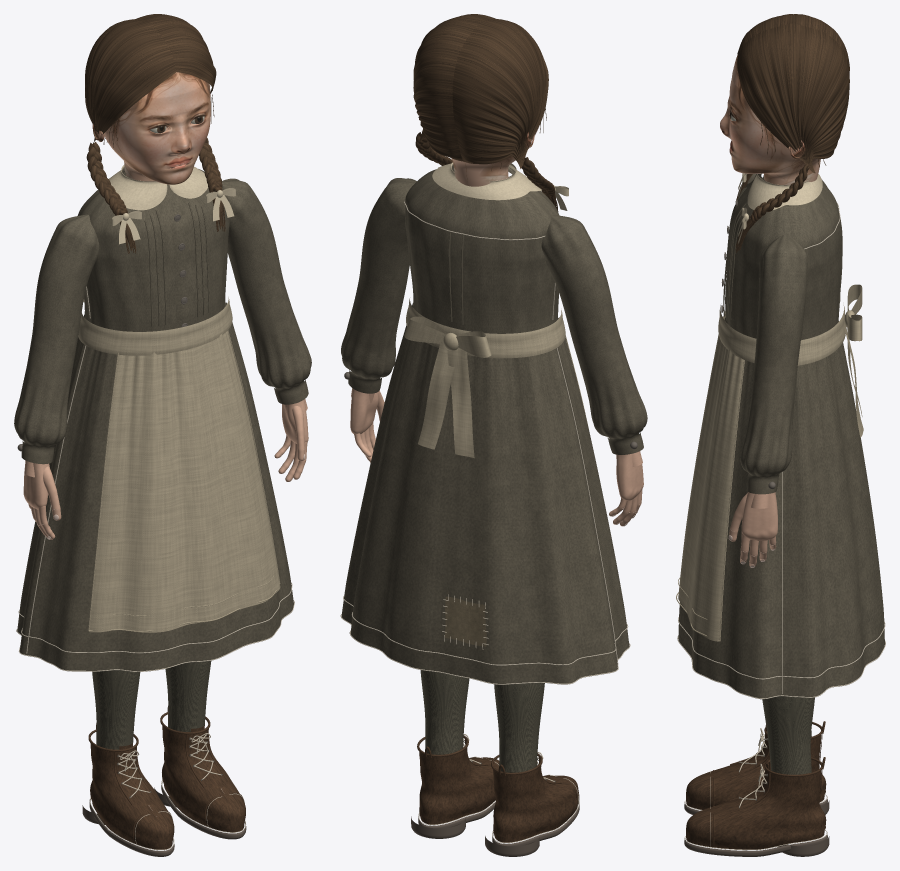
Rendered from caecilia_gabriel_v02.glb.
3 views of the same model, side by side, from view 1: azimuth 30°, elevation 25°; view 2: azimuth 150°, elevation 25°; view 3: azimuth 270°, elevation 25° (orthographic). The views are drawn at different scales.
Visible parts, largest first — view 1: apron, dress-skirt, bodice, sleeve--1, sleeve-1, hair-cap, face, boot-upper-1, boot-upper--1, waistband, stocking--1, stocking-1 (+12 smaller); view 2: dress-skirt, bodice, hair-cap, sleeve--1, sleeve-1, boot-upper--1, boot-upper-1, stocking--1, stocking-1, waistband, apron-tie-1, collar (+11 smaller); view 3: dress-skirt, hair-cap, apron, sleeve-1, bodice, boot-upper-1, face, stocking-1, boot-upper--1, hand-1, waistband, collar (+7 smaller).
Boxes of the visible parts, x1=… form: apron: x1=89, y1=331, x2=280, y2=632; dress-skirt: x1=17, y1=302, x2=293, y2=671; bodice: x1=77, y1=169, x2=229, y2=331; sleeve--1: x1=14, y1=214, x2=99, y2=447; sleeve-1: x1=222, y1=178, x2=311, y2=389; hair-cap: x1=85, y1=14, x2=216, y2=142; face: x1=104, y1=72, x2=210, y2=184; boot-upper-1: x1=162, y1=723, x2=245, y2=832; boot-upper--1: x1=90, y1=741, x2=174, y2=849; waistband: x1=78, y1=297, x2=232, y2=355; stocking--1: x1=92, y1=670, x2=140, y2=749; stocking-1: x1=165, y1=660, x2=211, y2=731; dress-skirt: x1=341, y1=303, x2=629, y2=683; bodice: x1=405, y1=165, x2=559, y2=333; hair-cap: x1=413, y1=14, x2=548, y2=168; sleeve--1: x1=541, y1=215, x2=647, y2=439; sleeve-1: x1=341, y1=178, x2=416, y2=379; boot-upper--1: x1=493, y1=764, x2=579, y2=842; boot-upper-1: x1=419, y1=744, x2=499, y2=824; stocking--1: x1=494, y1=682, x2=544, y2=772; stocking-1: x1=420, y1=670, x2=469, y2=754; waistband: x1=406, y1=298, x2=565, y2=358; apron-tie-1: x1=447, y1=347, x2=474, y2=458; collar: x1=432, y1=162, x2=541, y2=200; dress-skirt: x1=678, y1=317, x2=884, y2=699; hair-cap: x1=737, y1=14, x2=849, y2=173; apron: x1=678, y1=311, x2=743, y2=641; sleeve-1: x1=740, y1=234, x2=807, y2=477; bodice: x1=725, y1=173, x2=841, y2=340; boot-upper-1: x1=686, y1=768, x2=824, y2=849; face: x1=720, y1=55, x2=820, y2=185; stocking-1: x1=762, y1=696, x2=814, y2=774; boot-upper--1: x1=686, y1=733, x2=824, y2=809; hand-1: x1=729, y1=492, x2=777, y2=566; waistband: x1=718, y1=305, x2=845, y2=365; collar: x1=747, y1=174, x2=822, y2=209.
Size of the model in its own units: 0.471 by 1.22 by 0.2879.
21 materials, 14 textured.
